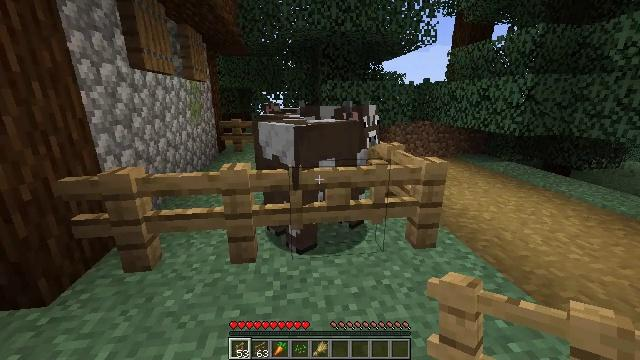cow: (259, 104, 383, 253), (302, 106, 383, 147)
